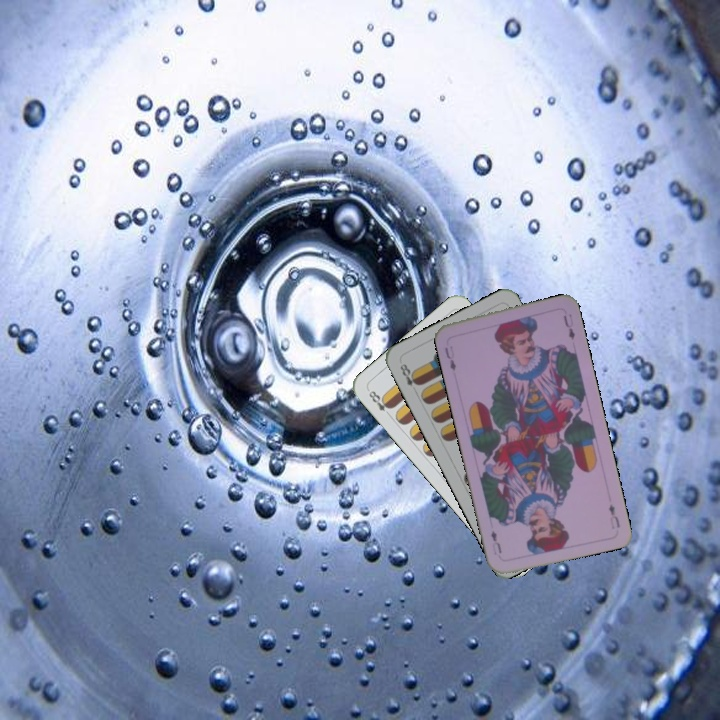E8: (365, 387, 395, 420), (396, 360, 423, 396)
EU: (441, 342, 459, 374), (604, 500, 622, 530)
